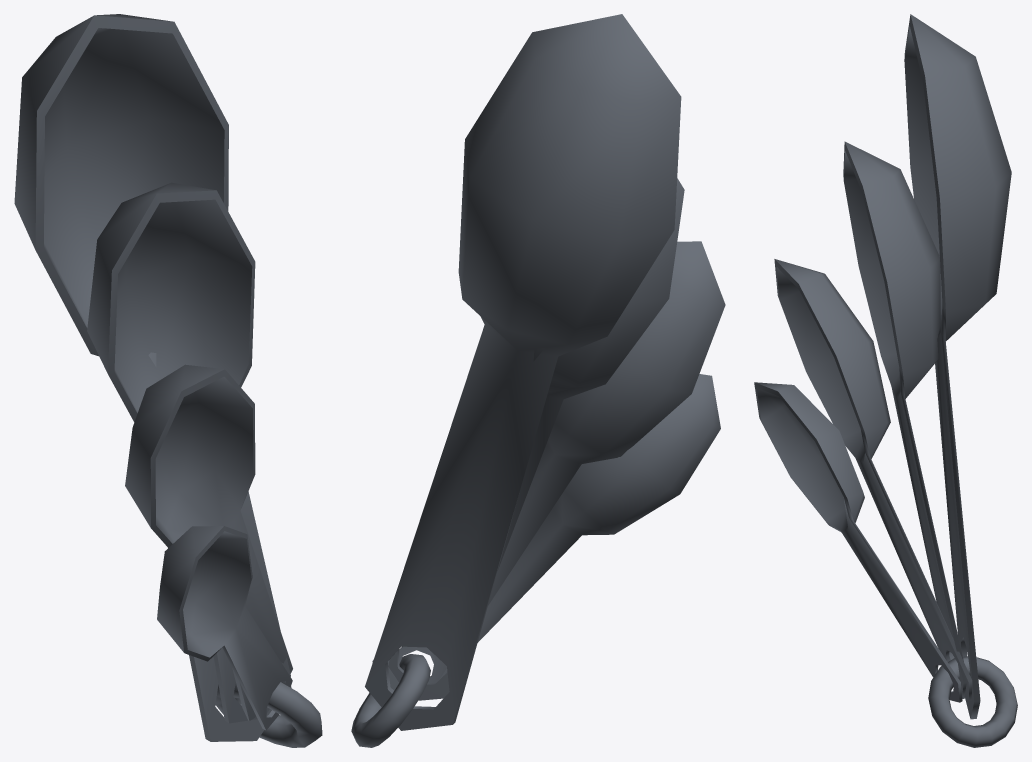
The model's file is Measuring Spoon-ZQxVJBNhzt.glb.
The picture shows the model from 3 angles, left to right: view 1: azimuth 30°, elevation 25°; view 2: azimuth 150°, elevation 25°; view 3: azimuth 270°, elevation 25°; orthographic projection. The views are drawn at different scales.
Parts seen in each view (by area): view 1: mspoon_measuring_spoon_stack_small_w/ring_Sphere.012; view 2: mspoon_measuring_spoon_stack_small_w/ring_Sphere.012; view 3: mspoon_measuring_spoon_stack_small_w/ring_Sphere.012.
Boxes of the visible parts, left/top/right/bottom form: mspoon_measuring_spoon_stack_small_w/ring_Sphere.012: left=14, top=14, right=322, bottom=747; mspoon_measuring_spoon_stack_small_w/ring_Sphere.012: left=351, top=14, right=725, bottom=747; mspoon_measuring_spoon_stack_small_w/ring_Sphere.012: left=754, top=14, right=1017, bottom=747.
Bounding box in the file's own units: 0.6796 × 1.69 × 0.6285.
1 material, 1 textured.
